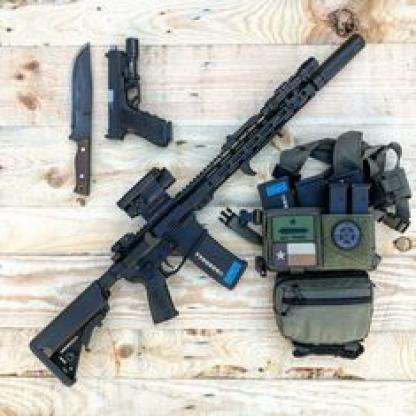Gun: (27, 31, 366, 389)
Knife: (68, 38, 96, 198)
Pistol: (105, 34, 175, 150)
